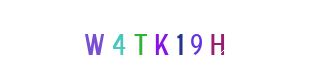1: (121, 0, 201, 80)
4: (97, 0, 177, 80)
9: (140, 0, 220, 80)
H: (178, 0, 258, 80)
K: (117, 0, 197, 80)
T: (100, 0, 180, 80)
W: (82, 0, 162, 80)
